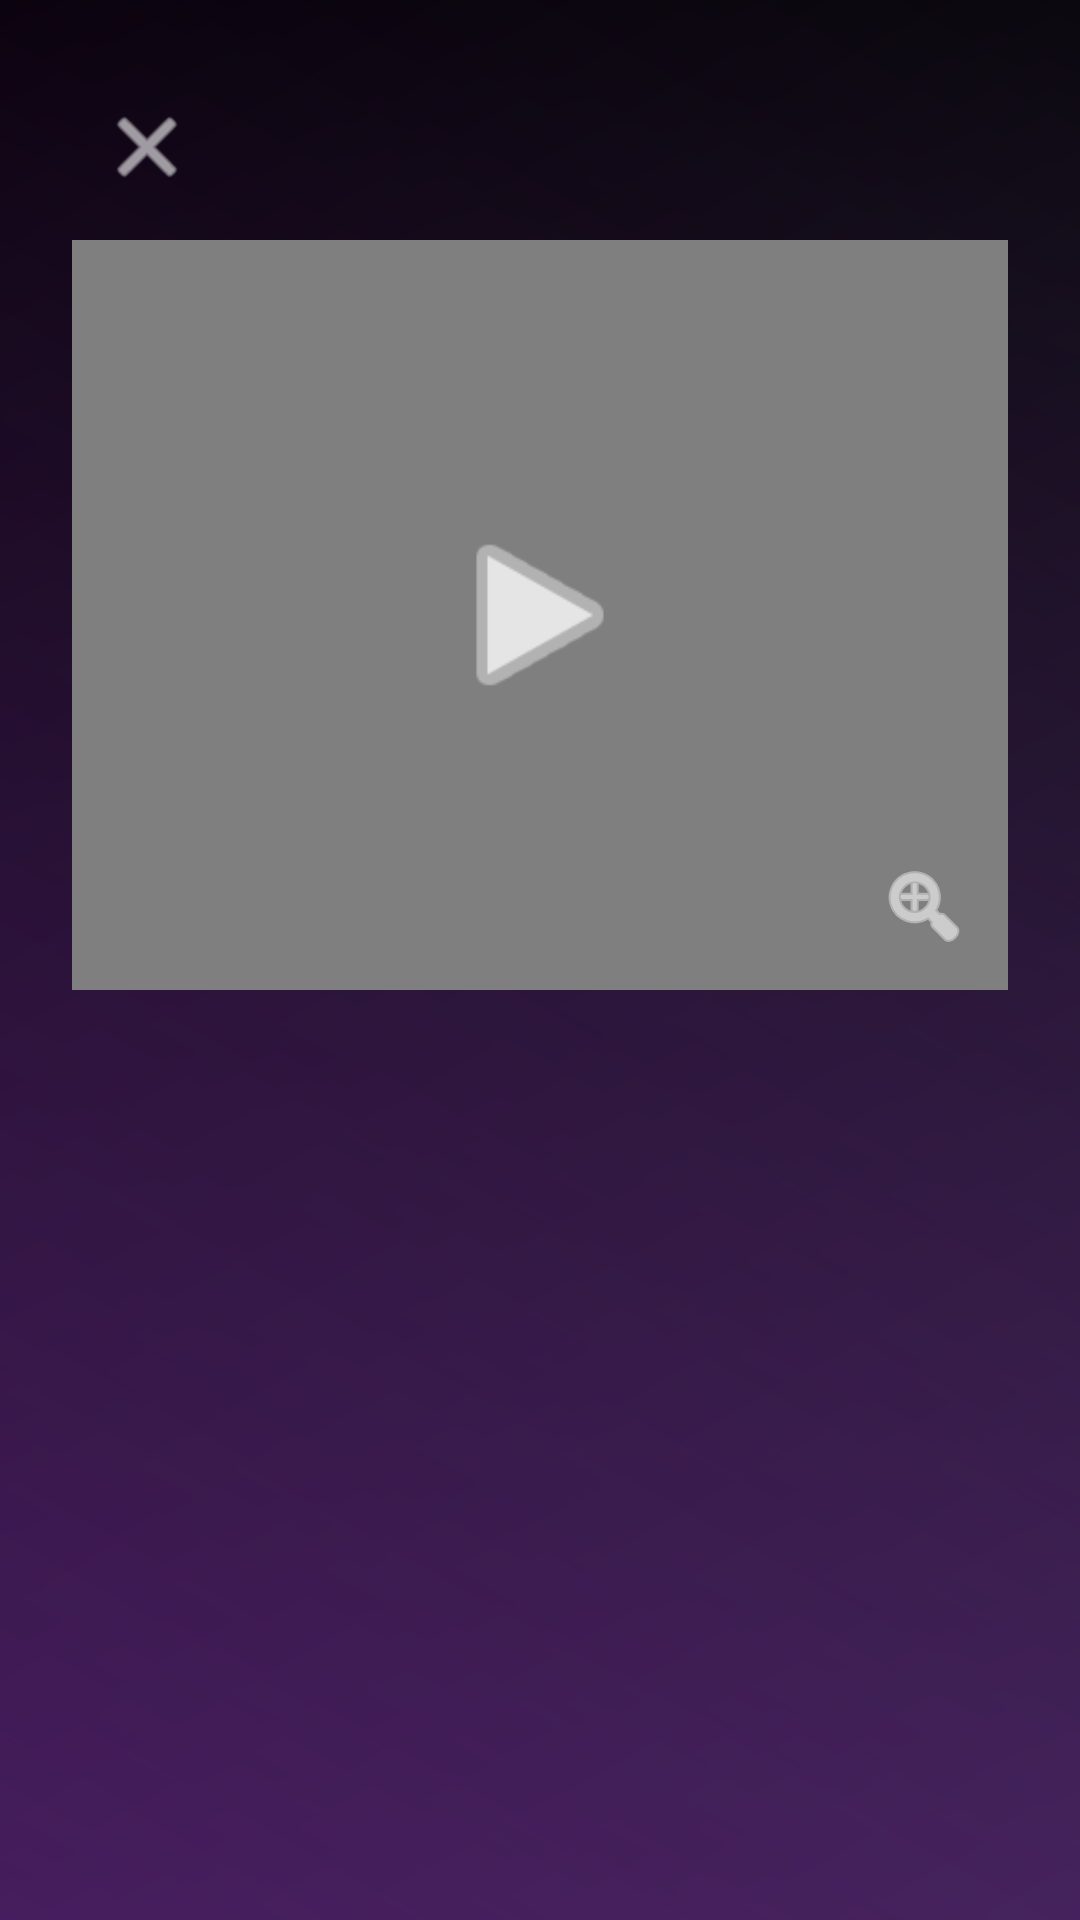

Where icons sit on this 1080 × 1920 app screen, as (x1, y1, x2, y2):
Cerrar: (117, 117, 177, 177)
Reproducir: (477, 545, 603, 685)
